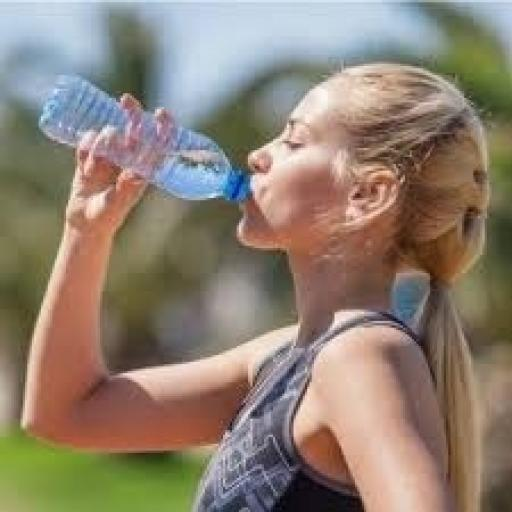drinking: (36, 46, 480, 204)
